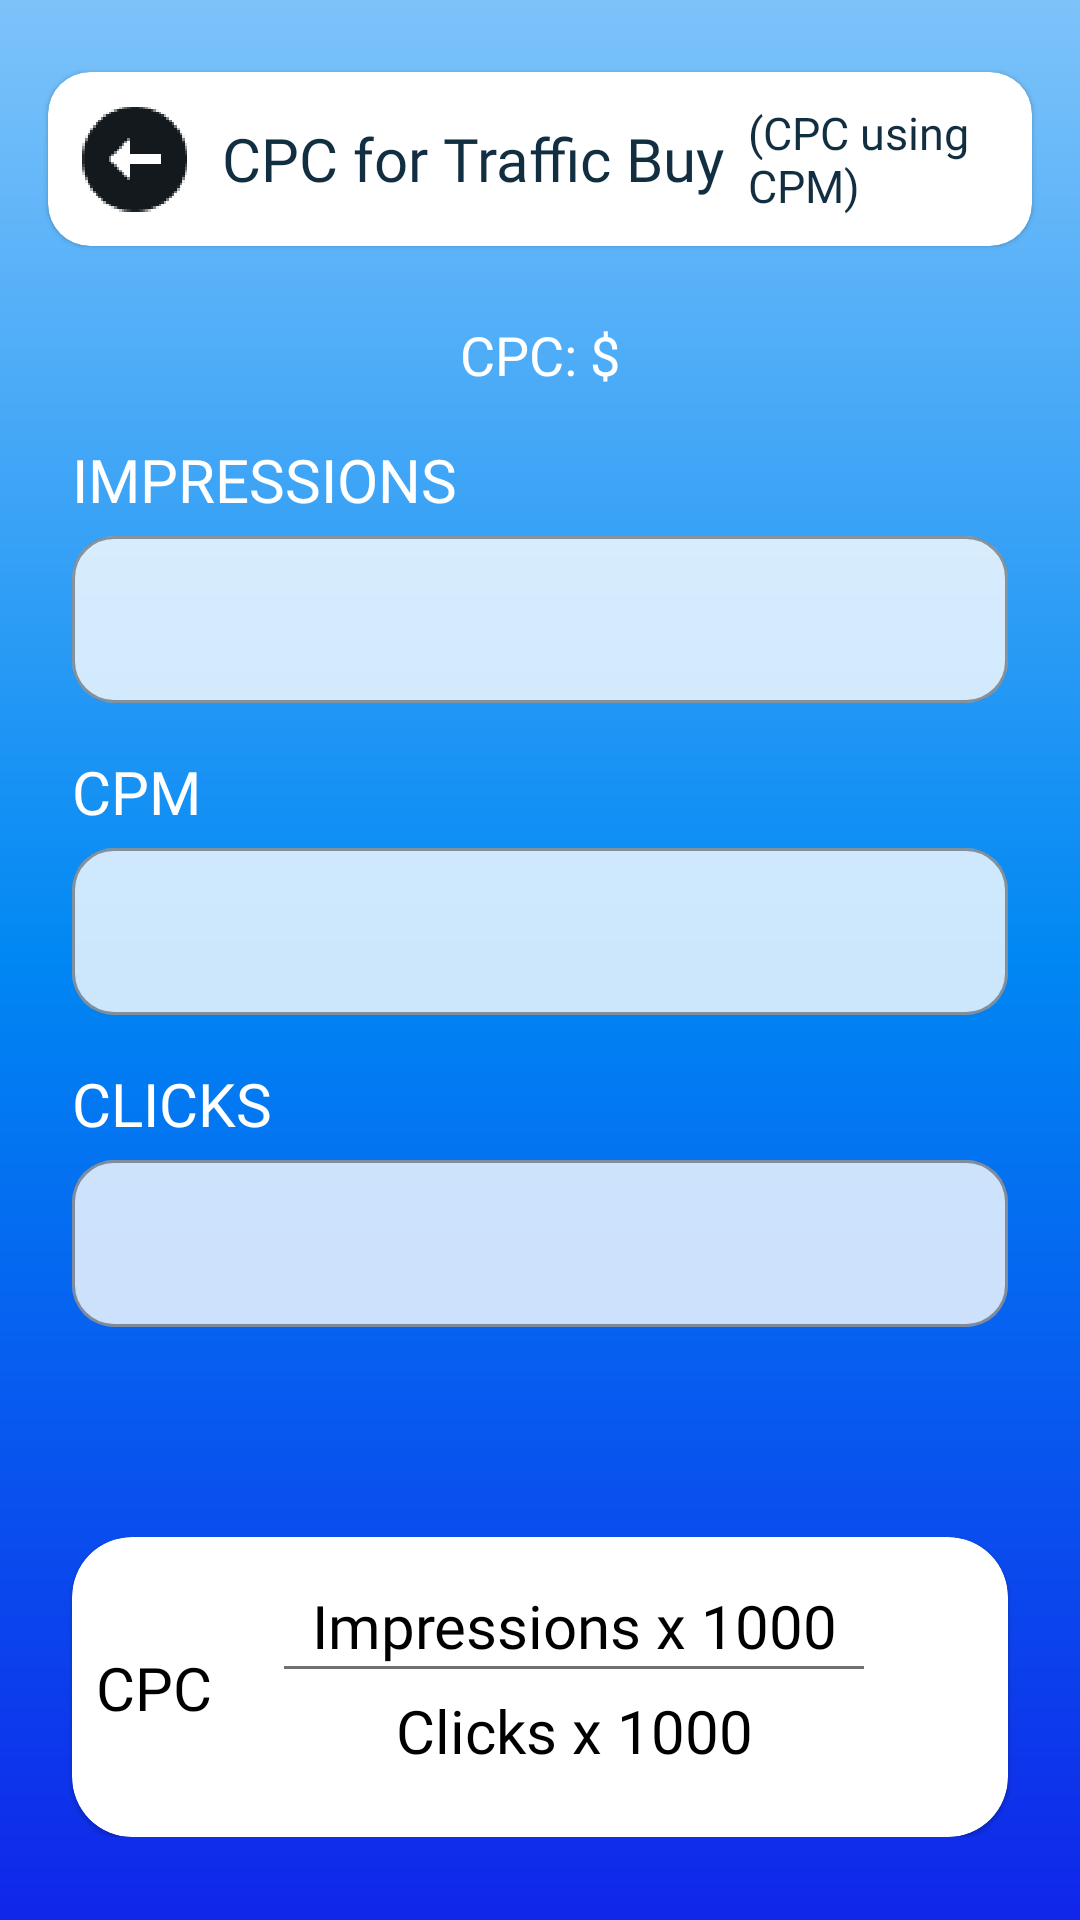

Locate icon controls on the screen. Image size 1080×1920, boxes as (x1, y1, x2, y2).
scroll back: (82, 107, 187, 212)
